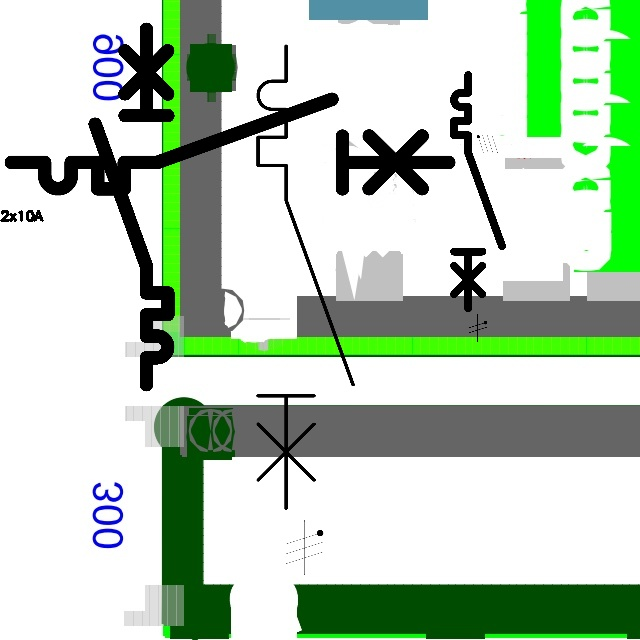interruptor_termomagnetico: (246, 34, 365, 520), (0, 88, 460, 200), (86, 20, 177, 394), (448, 69, 508, 314)
